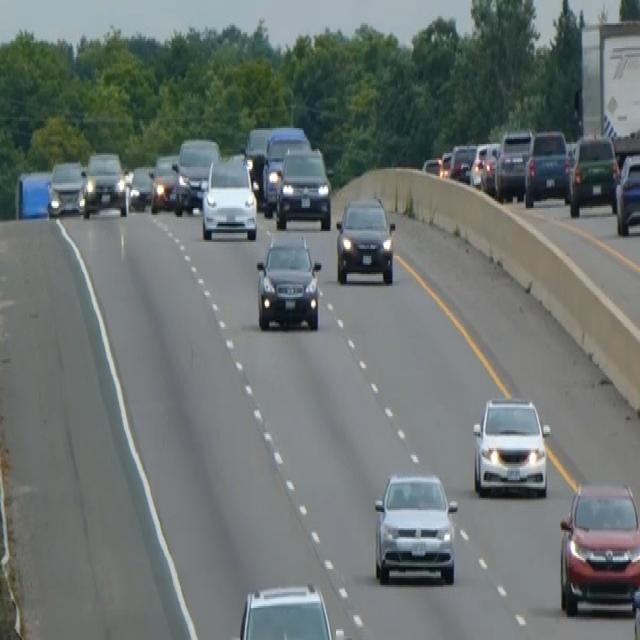car: (558, 478, 639, 617), (372, 469, 458, 585), (471, 393, 551, 498), (255, 234, 322, 330), (230, 580, 335, 638), (334, 194, 396, 284), (200, 153, 258, 242), (274, 146, 332, 229), (261, 125, 311, 215), (567, 131, 619, 217), (173, 135, 220, 215), (524, 128, 570, 206), (80, 149, 128, 217), (494, 126, 533, 201), (46, 158, 86, 215), (614, 149, 639, 235), (149, 151, 179, 212), (243, 124, 271, 185), (469, 140, 499, 190), (127, 163, 153, 210), (448, 142, 475, 183), (631, 539, 639, 638), (421, 155, 442, 176)
lorry: (576, 16, 639, 162)
